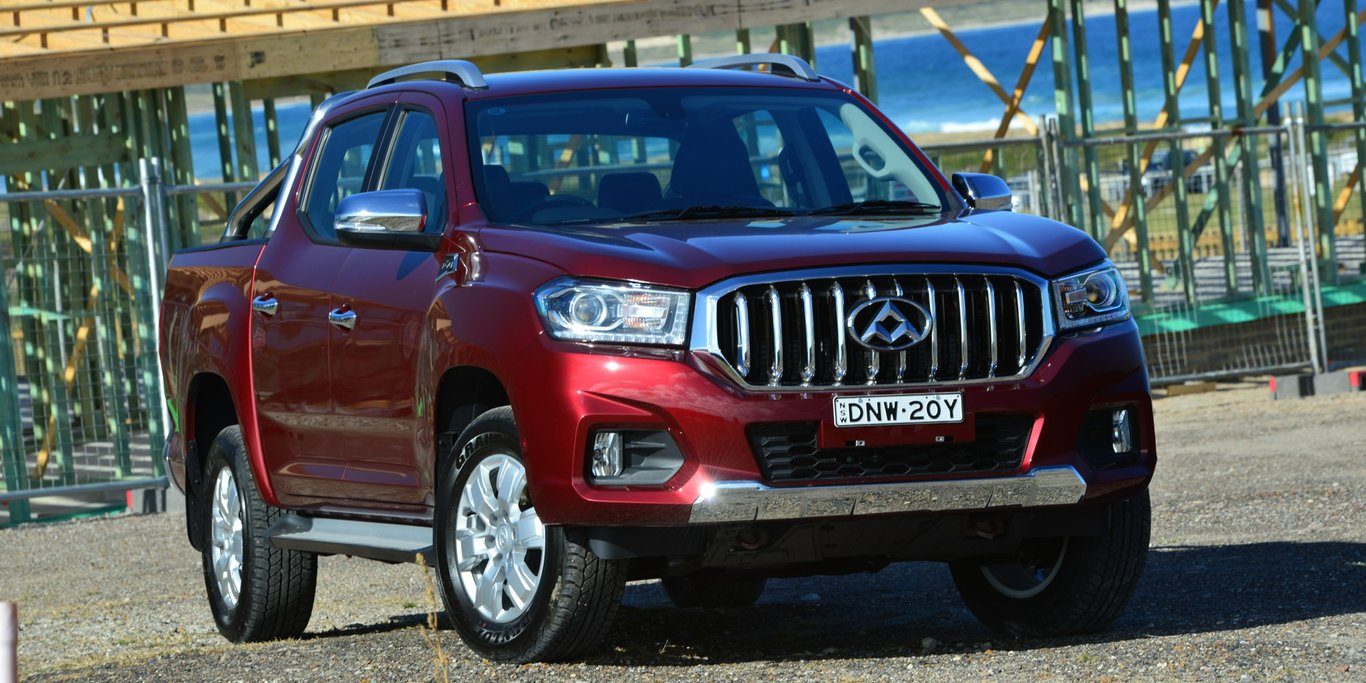pickup: (149, 51, 1161, 661)
